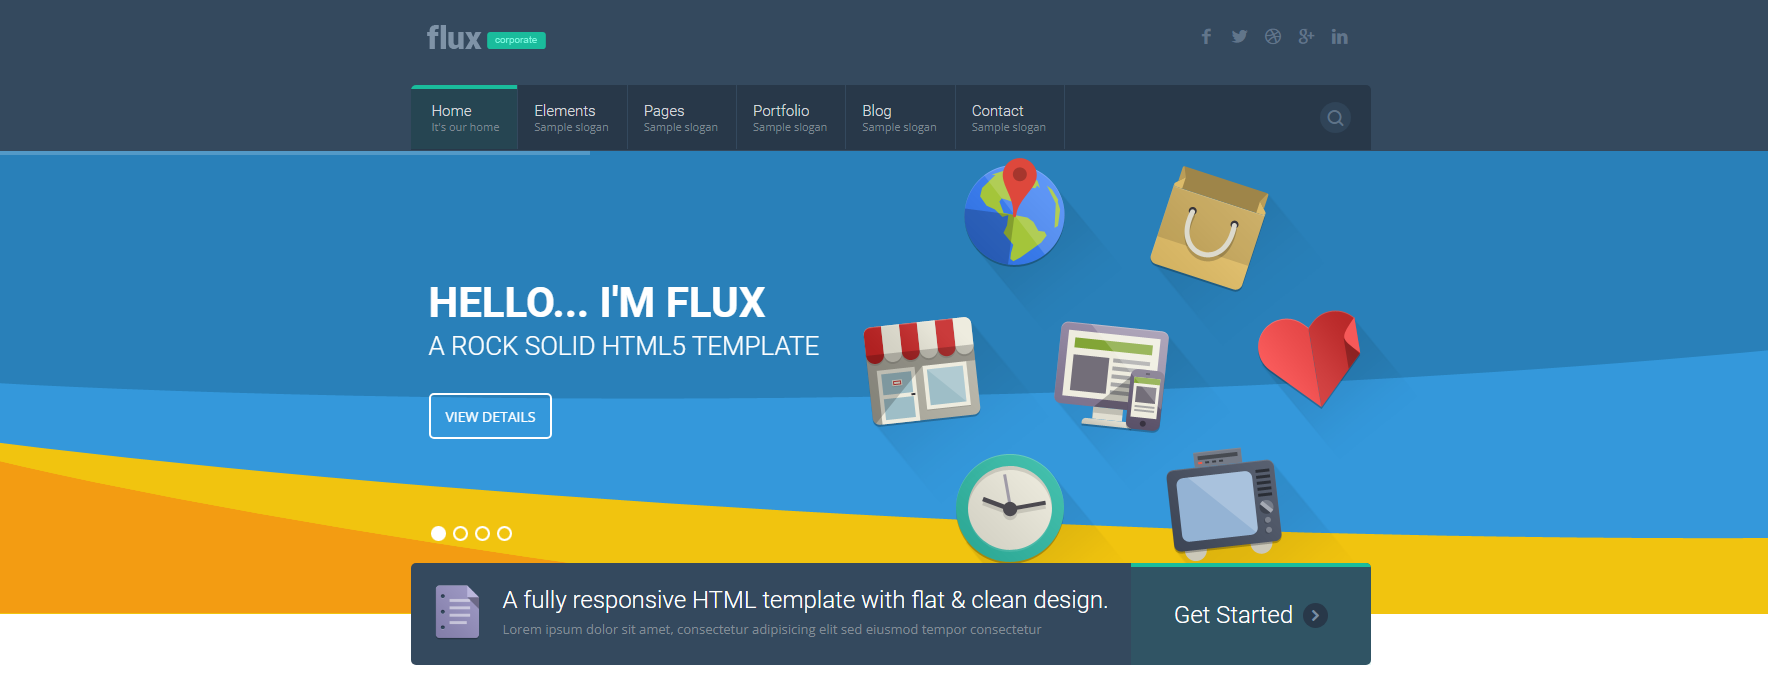menu: (23, 9, 1754, 207)
